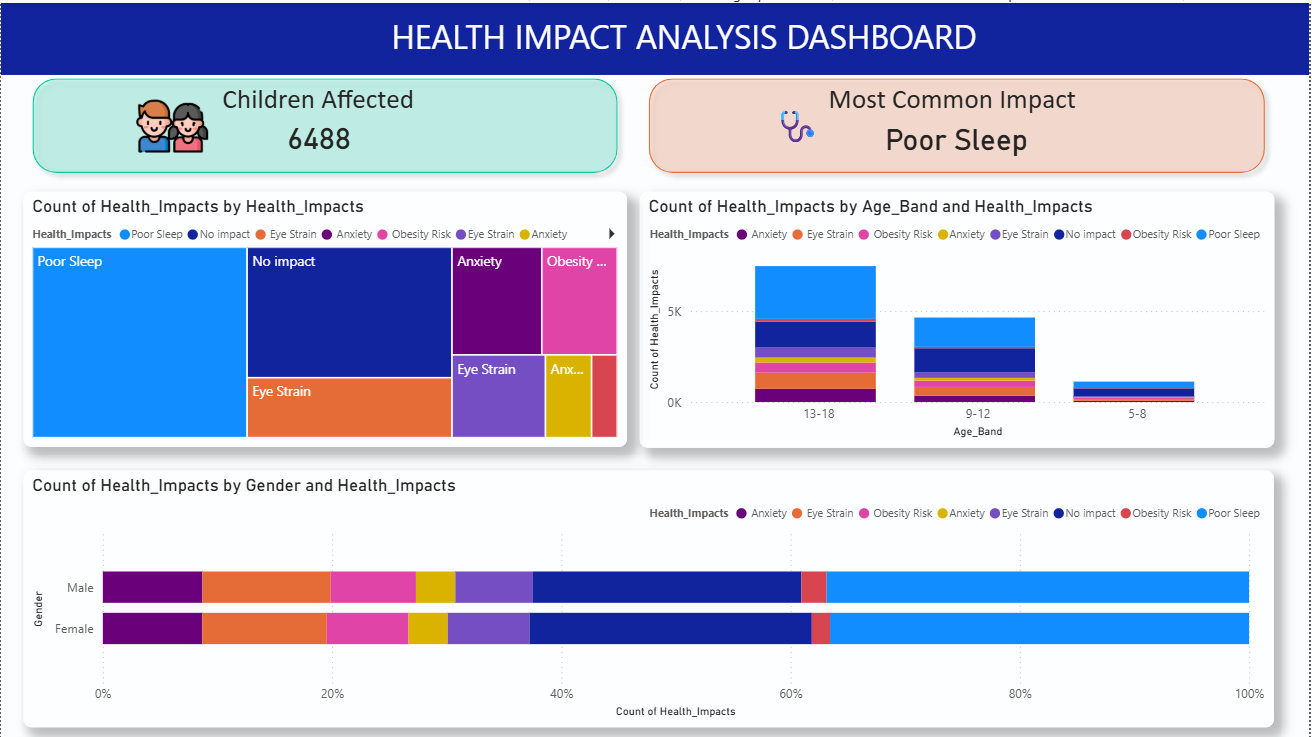

This screenshot's page, from the dashboard's own definition file:
{"tool":"powerbi","page":{"name":"Health_Impacts","canvas":[1280,720],"ordinal":2},"visuals":[{"type":"textbox","box":[0,0,1280,70],"z":0},{"type":"shape","box":[21.6,64.7,590,110.4],"z":1000},{"type":"card","fields":{"Values":["ScreenSense_Cleaned_Dataset.Children_With_Impact"]},"box":[211.9,106.6,199.2,49.5],"z":2000},{"type":"shape","box":[624.3,64.7,620.5,110.4],"z":3000},{"type":"card","fields":{"Values":["ScreenSense_Cleaned_Dataset.Most_Common_Impact"]},"box":[833.6,107.9,201.7,49.5],"z":4000},{"type":"textbox","box":[211.9,72.3,210.6,49.5],"z":5000},{"type":"textbox","box":[804.4,72.3,260.1,50.8],"z":6000},{"type":"treemap","fields":{"Group":["Health_Impact_Analysis.Health_Impacts"],"Values":["CountNonNull(Health_Impact_Analysis.Health_Impacts)"]},"box":[21.6,185.3,590,250],"z":7000},{"type":"columnChart","fields":{"Category":["Health_Impact_Analysis.Age_Band"],"Series":["Health_Impact_Analysis.Health_Impacts"],"Y":["CountNonNull(Health_Impact_Analysis.Health_Impacts)"]},"box":[624.3,185.3,620.5,250],"z":8000},{"type":"hundredPercentStackedBarChart","fields":{"Category":["Health_Impact_Analysis.Gender"],"Y":["CountNonNull(Health_Impact_Analysis.Health_Impacts)"],"Series":["Health_Impact_Analysis.Health_Impacts"]},"box":[21.6,456.8,1223.2,251.2],"z":9000},{"type":"image","box":[100.2,85,134.5,69.8],"z":10000},{"type":"textbox","box":[752.4,92.6,52,57.1],"z":11000}]}

Visuals, with their boxes in screenshot pixels (x1, y1, x2, y2), scaled from the page's 1280x720 canvas onto the 1312x737 screenshot:
textbox: pyautogui.locateOnScreen(0, 0, 1311, 72)
shape: pyautogui.locateOnScreen(22, 66, 627, 179)
card - ScreenSense_Cleaned_Dataset.Children_With_Impact: pyautogui.locateOnScreen(217, 109, 421, 160)
shape: pyautogui.locateOnScreen(640, 66, 1276, 179)
card - ScreenSense_Cleaned_Dataset.Most_Common_Impact: pyautogui.locateOnScreen(854, 110, 1061, 161)
textbox: pyautogui.locateOnScreen(217, 74, 433, 125)
textbox: pyautogui.locateOnScreen(825, 74, 1091, 126)
treemap - Health_Impact_Analysis.Health_Impacts x CountNonNull(Health_Impact_Analysis.Health_Impacts): pyautogui.locateOnScreen(22, 190, 627, 446)
columnChart - Health_Impact_Analysis.Age_Band x Health_Impact_Analysis.Health_Impacts: pyautogui.locateOnScreen(640, 190, 1276, 446)
hundredPercentStackedBarChart - Health_Impact_Analysis.Gender x CountNonNull(Health_Impact_Analysis.Health_Impacts): pyautogui.locateOnScreen(22, 468, 1276, 725)
image: pyautogui.locateOnScreen(103, 87, 241, 158)
textbox: pyautogui.locateOnScreen(771, 95, 825, 153)
